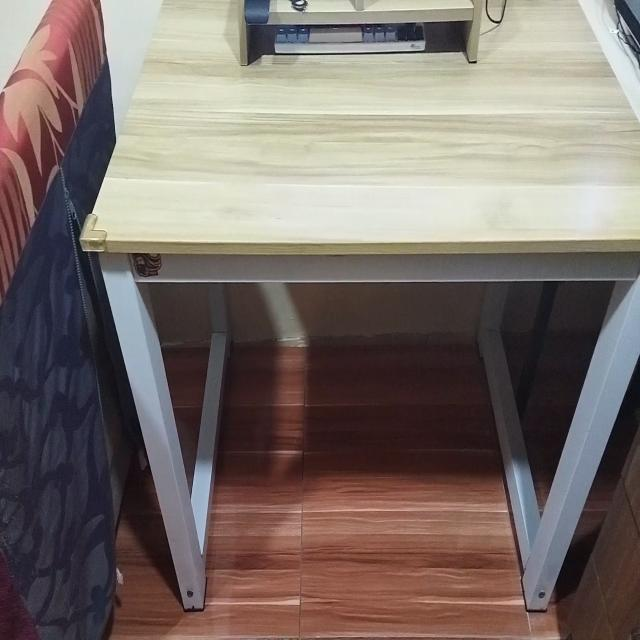table: (77, 0, 640, 617)
